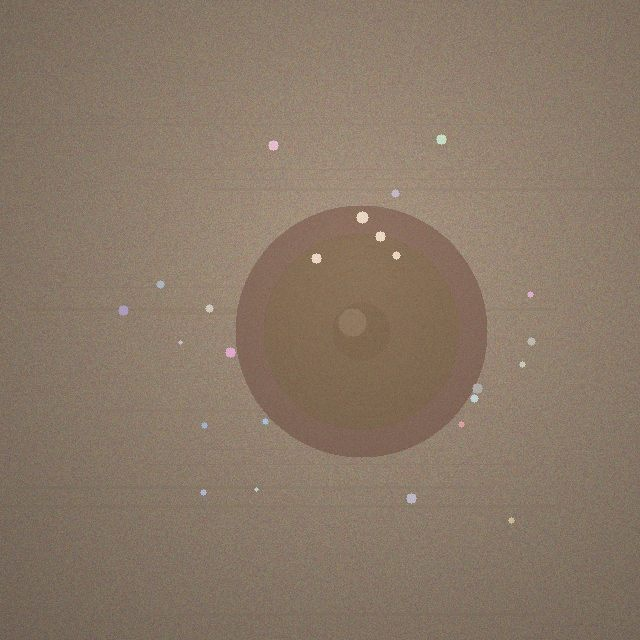overburn: (235, 205, 487, 457)
